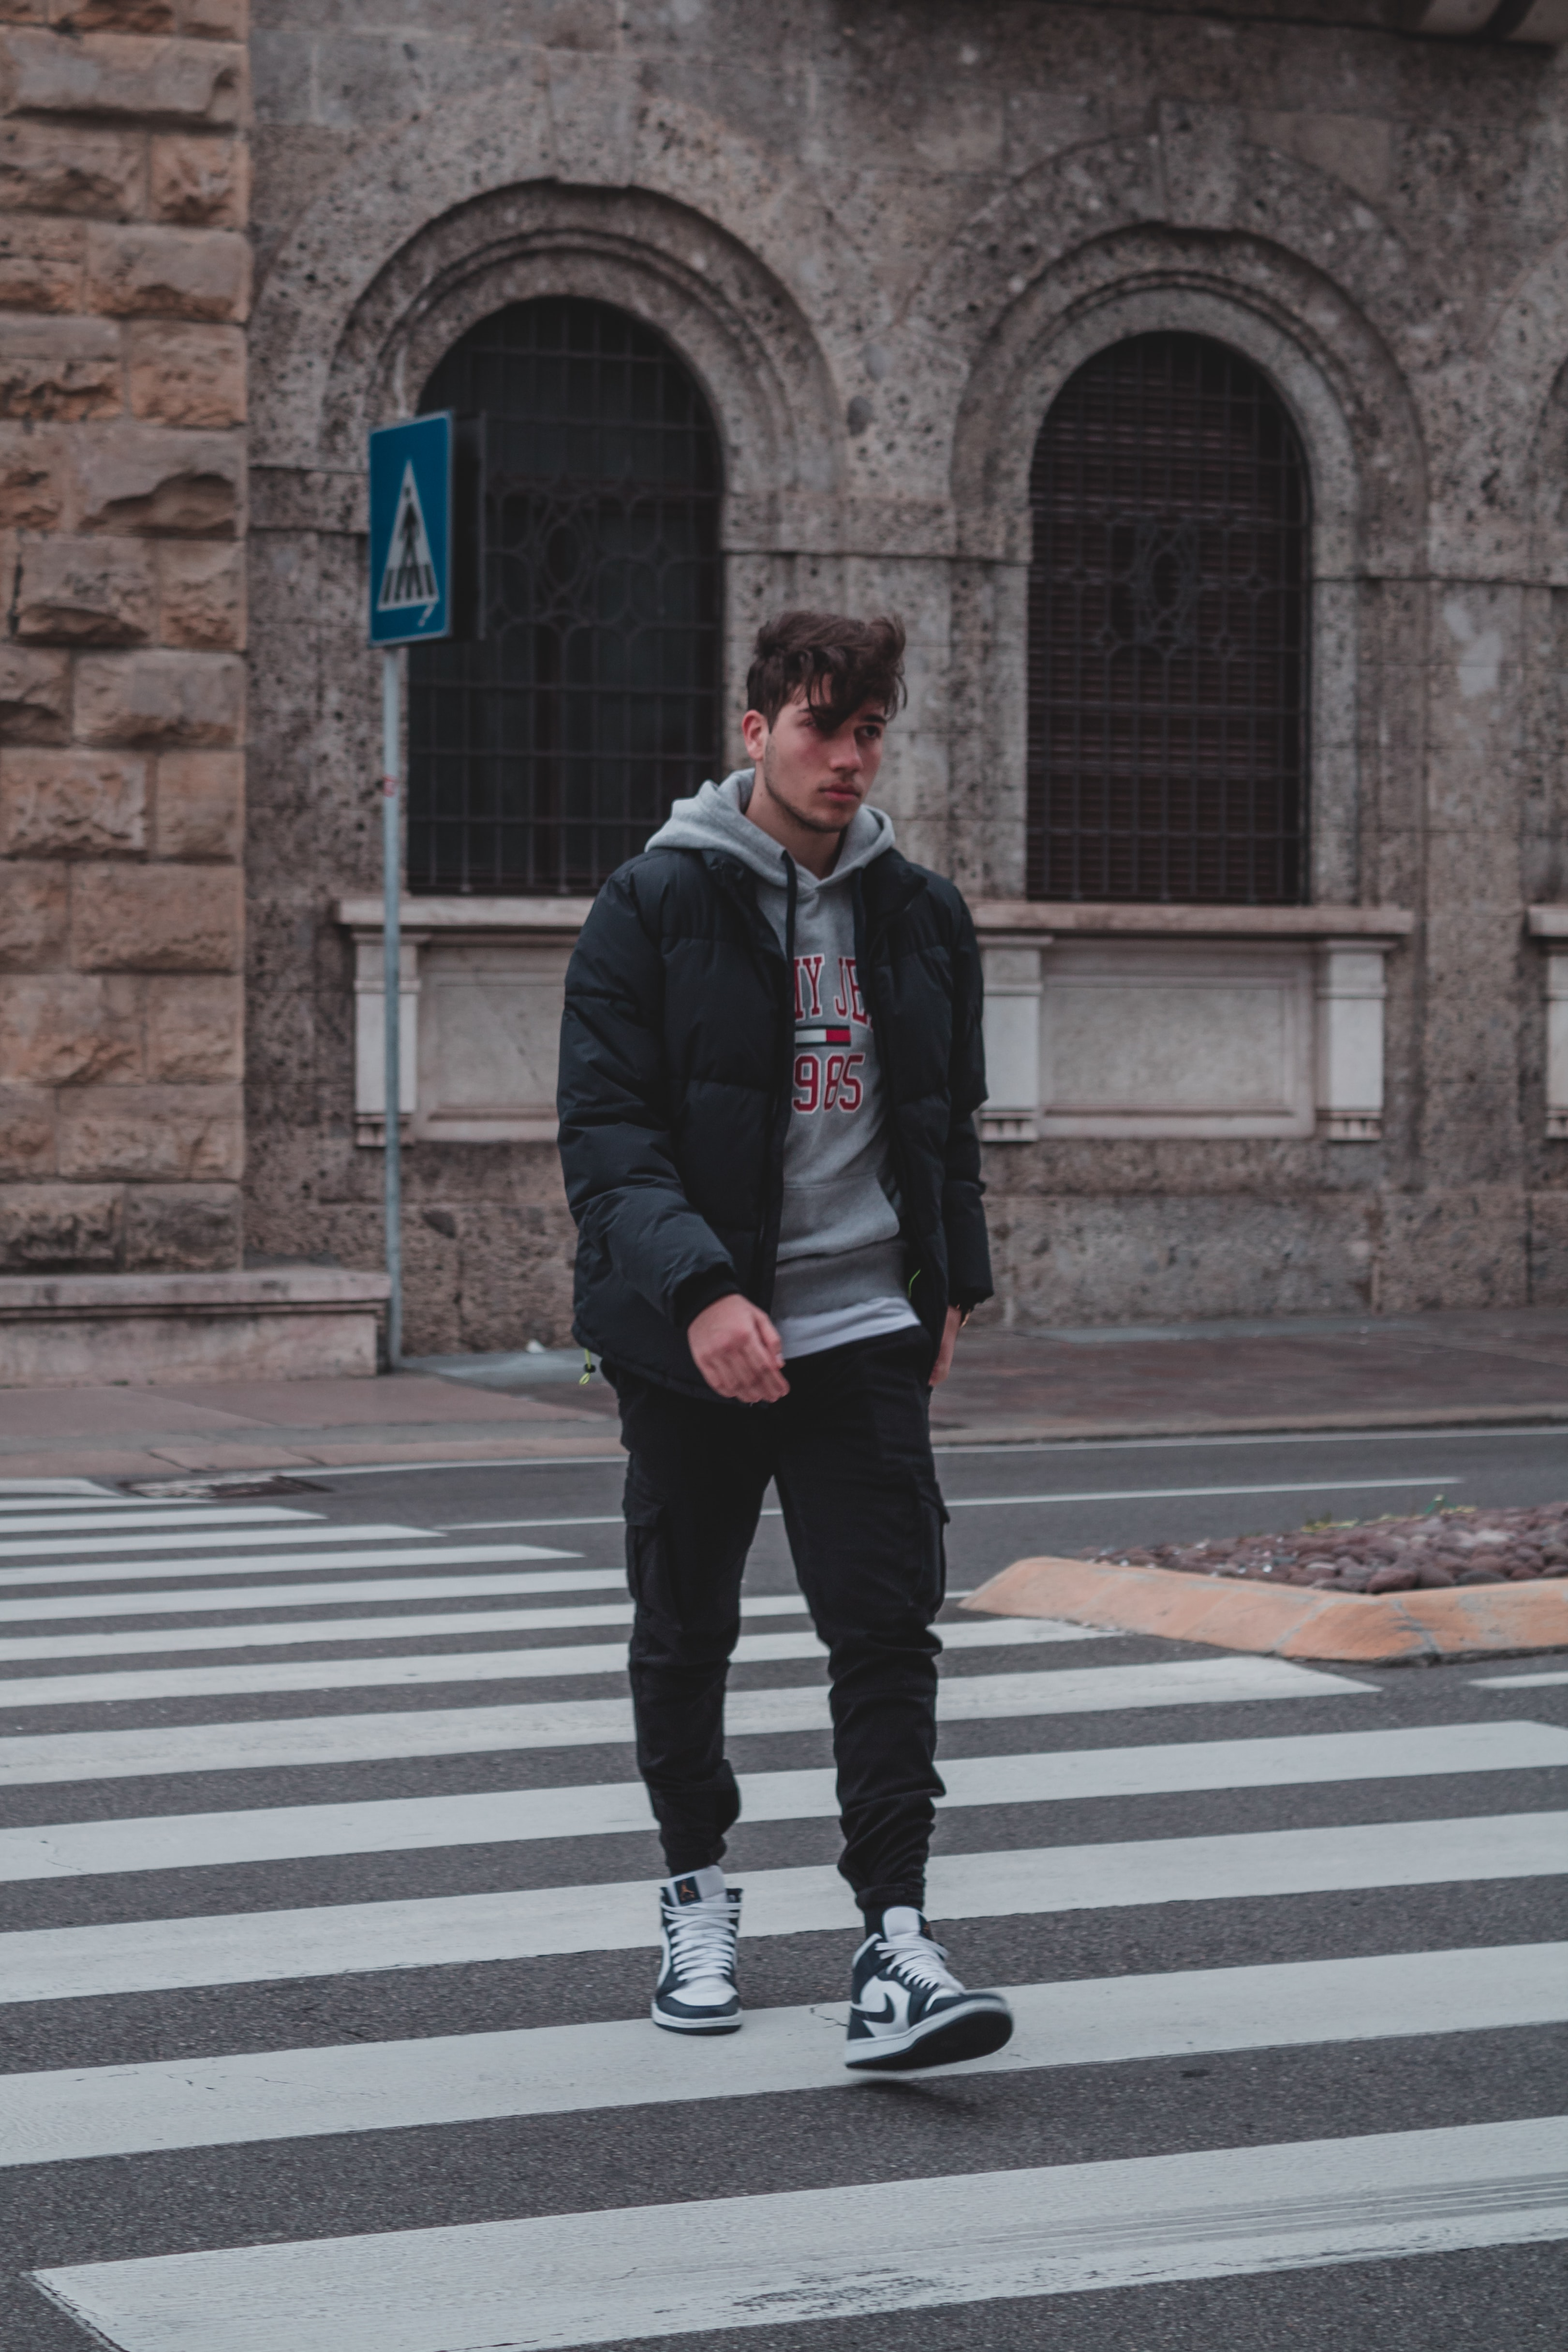person: (559, 618, 1012, 2077)
